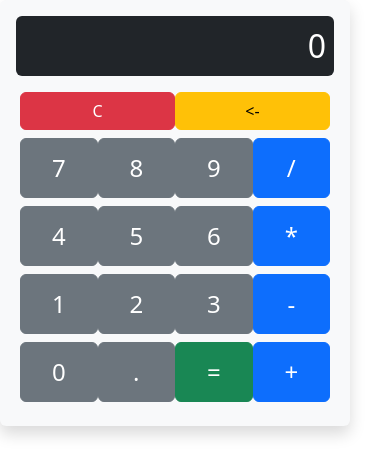
Scenario: Calculator › verify negatives numbers
Click the button "2": (136, 304) [98, 274, 175, 334]
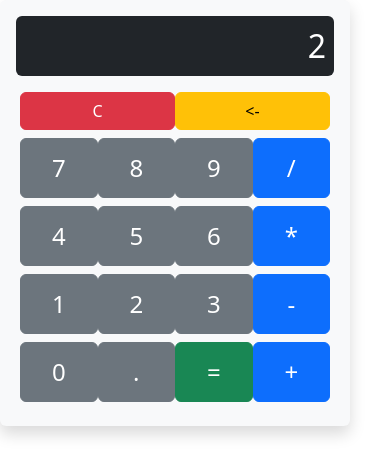
Click the button "-": (291, 304) [252, 274, 330, 334]
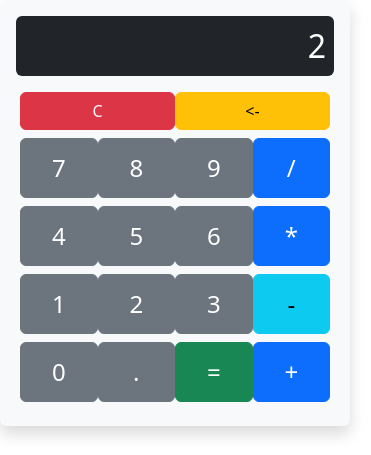
Click the button "3": (214, 304) [175, 274, 252, 334]
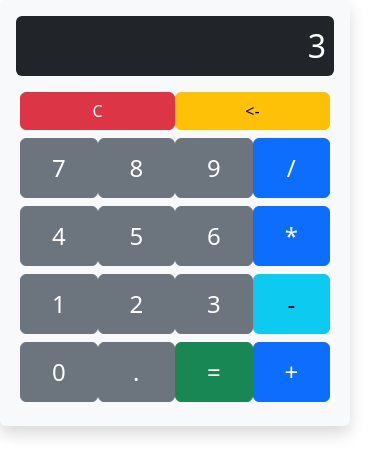
Click the button "=": (214, 372) [175, 342, 252, 402]
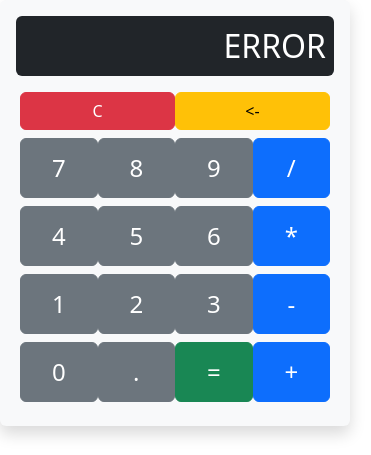
Now the text with test id "calculator-display" reads "ERROR", box [224, 24, 326, 67]
